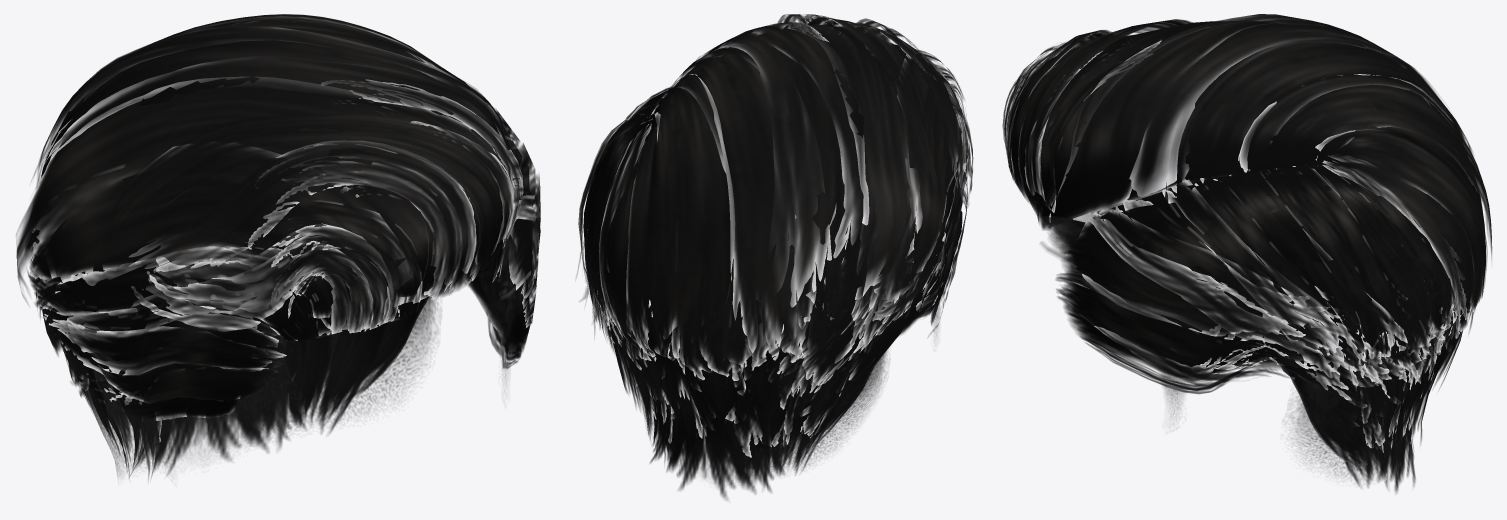
The model's file is Medium-LengthSidePart.glb.
3 renders of one model, left to right at view 1: azimuth 30°, elevation 25°; view 2: azimuth 150°, elevation 25°; view 3: azimuth 270°, elevation 25°, orthographic. The views are drawn at different scales.
Parts seen in each view (by area): view 1: MEDIUM-SWEPT SIDE PART.006, MEDIUM-SWEPT SIDE PART.013, SCALP LEBAR, MEDIUM-SWEPT SIDE PART.009, MEDIUM-SWEPT SIDE PART.010, MEDIUM-SWEPT SIDE PART.011; view 2: MEDIUM-SWEPT SIDE PART.006, MEDIUM-SWEPT SIDE PART.013, SCALP LEBAR, MEDIUM-SWEPT SIDE PART.010; view 3: MEDIUM-SWEPT SIDE PART.006, SCALP LEBAR, MEDIUM-SWEPT SIDE PART.010, MEDIUM-SWEPT SIDE PART.013, MEDIUM-SWEPT SIDE PART.009.
Part boxes in pixels (x1,y1,x2,y2): MEDIUM-SWEPT SIDE PART.006: [16, 14, 540, 479]; MEDIUM-SWEPT SIDE PART.013: [107, 114, 513, 264]; SCALP LEBAR: [81, 234, 521, 476]; MEDIUM-SWEPT SIDE PART.009: [257, 145, 475, 296]; MEDIUM-SWEPT SIDE PART.010: [325, 81, 522, 252]; MEDIUM-SWEPT SIDE PART.011: [56, 296, 230, 330]; MEDIUM-SWEPT SIDE PART.006: [576, 22, 973, 499]; MEDIUM-SWEPT SIDE PART.013: [805, 16, 938, 194]; SCALP LEBAR: [635, 303, 939, 474]; MEDIUM-SWEPT SIDE PART.010: [777, 14, 846, 40]; MEDIUM-SWEPT SIDE PART.006: [1002, 14, 1492, 493]; SCALP LEBAR: [1028, 200, 1393, 481]; MEDIUM-SWEPT SIDE PART.010: [1025, 36, 1161, 211]; MEDIUM-SWEPT SIDE PART.013: [1018, 19, 1192, 195]; MEDIUM-SWEPT SIDE PART.009: [1005, 32, 1100, 191].
Size of the model in its own units: 0.2328 by 0.2585 by 0.2602.
2 materials, 2 textured.
